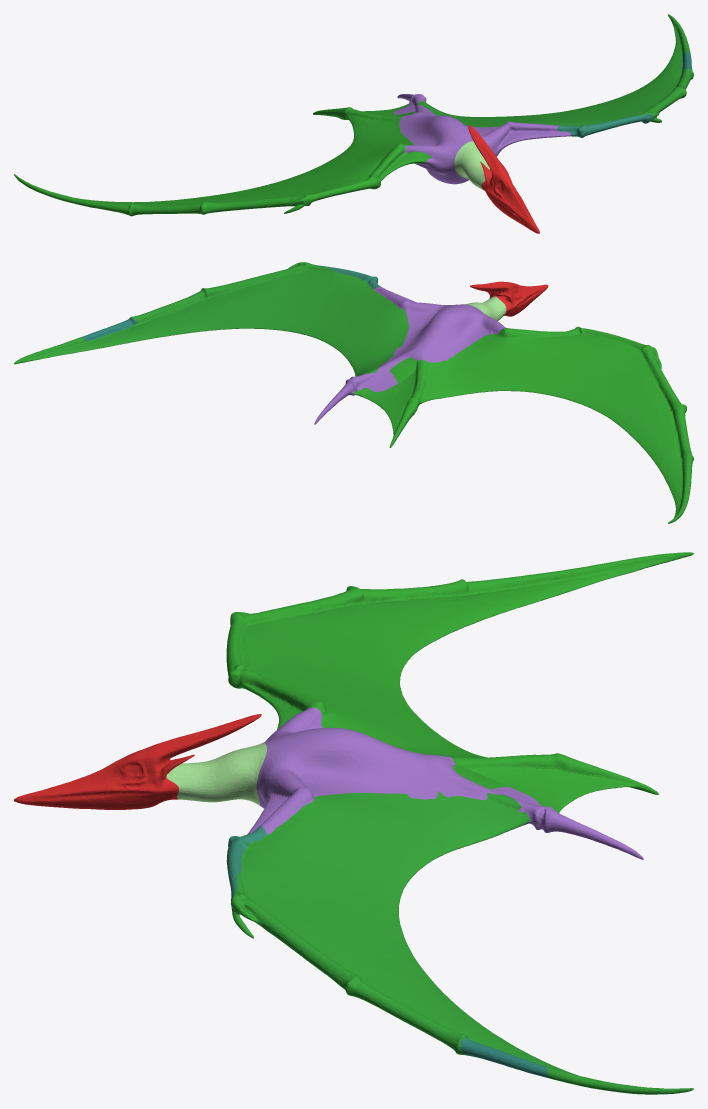
Rendered from SubdividedModelPteranodon.glb.
The picture shows the model from 3 angles, top to bottom: view 1: azimuth 30°, elevation 25°; view 2: azimuth 150°, elevation 25°; view 3: azimuth 270°, elevation 25°; orthographic projection. The views are drawn at different scales.
Parts seen in each view (by area): view 1: model_part12, model_part11, model_part10, model_part1, model_part0, model_part7; view 2: model_part12, model_part10, model_part11, model_part1, model_part0, model_part5; view 3: model_part10, model_part12, model_part11, model_part1, model_part0, model_part5, model_part7.
Boxes of the visible parts, box(x1,y1,x2,y2) form: model_part12: box(14, 101, 430, 216); model_part11: box(393, 94, 571, 184); model_part10: box(417, 14, 693, 127); model_part1: box(468, 125, 539, 233); model_part0: box(454, 141, 491, 190); model_part7: box(557, 114, 654, 137); model_part12: box(354, 326, 693, 523); model_part10: box(14, 262, 408, 376); model_part11: box(314, 287, 505, 424); model_part1: box(470, 281, 548, 316); model_part0: box(466, 296, 506, 321); model_part5: box(82, 318, 137, 341); model_part10: box(231, 789, 693, 1094); model_part12: box(226, 552, 693, 812); model_part11: box(247, 707, 643, 859); model_part1: box(14, 714, 261, 809); model_part0: box(166, 742, 266, 805); model_part5: box(460, 1035, 549, 1078); model_part7: box(226, 825, 266, 909).
Size of the model in its own units: 0.12 by 0.0123 by 0.0642.
